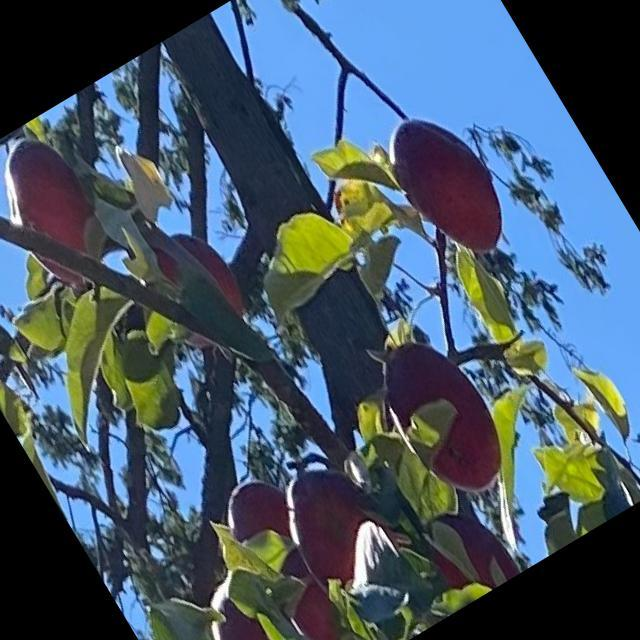100-_ripeness: (363, 322, 522, 507), (376, 102, 520, 266), (264, 447, 403, 600), (0, 126, 121, 288), (134, 216, 260, 358), (212, 466, 326, 596), (412, 490, 524, 608), (193, 571, 306, 639), (273, 565, 355, 639)
